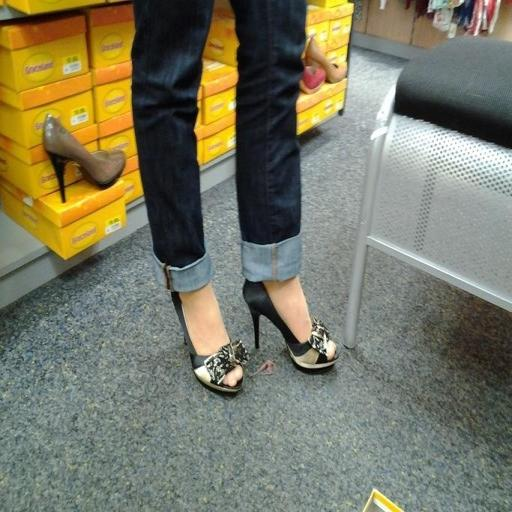heels: (243, 280, 338, 370), (171, 292, 249, 394), (43, 114, 126, 203), (304, 36, 348, 83), (299, 66, 326, 94)
